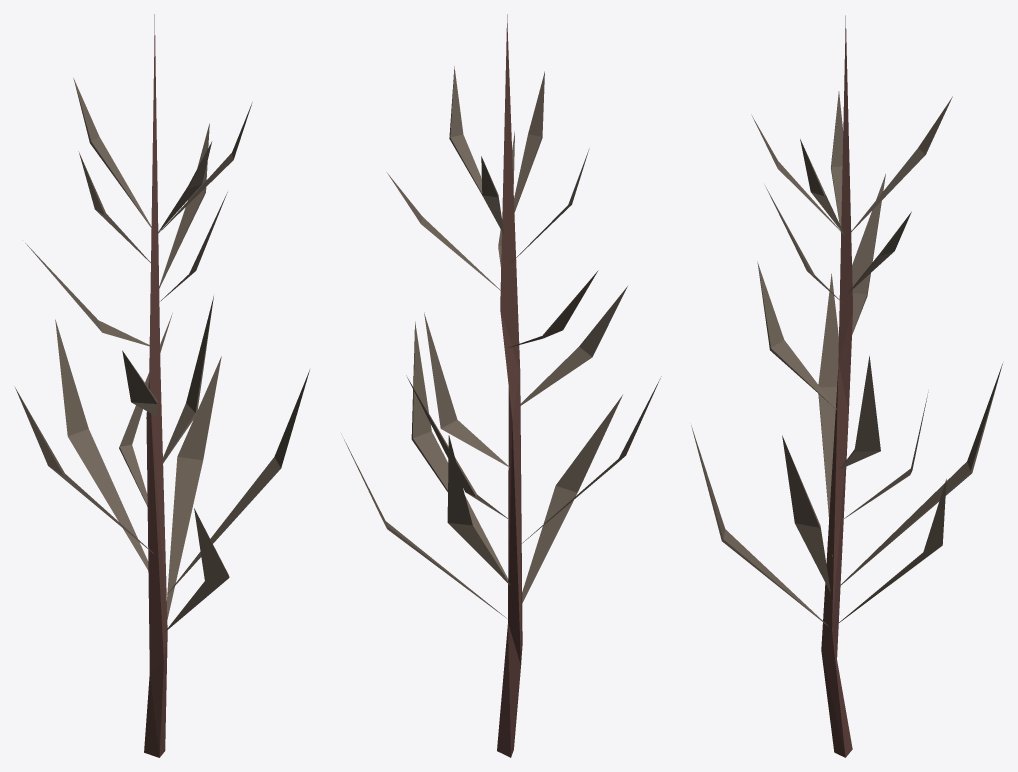
File: Plant_2.lod1.glb
3 renders of one model, left to right at view 1: azimuth 30°, elevation 25°; view 2: azimuth 150°, elevation 25°; view 3: azimuth 270°, elevation 25°, orthographic.
Parts seen in each view (by area): view 1: Plant_2; view 2: Plant_2; view 3: Plant_2.
Boxes of the visible parts, bbox=[...] form: Plant_2: bbox=[14, 14, 309, 757]; Plant_2: bbox=[341, 14, 661, 757]; Plant_2: bbox=[691, 15, 1002, 757].
Bounding box in the file's own units: 0.6819 × 1.77 × 0.6818.
